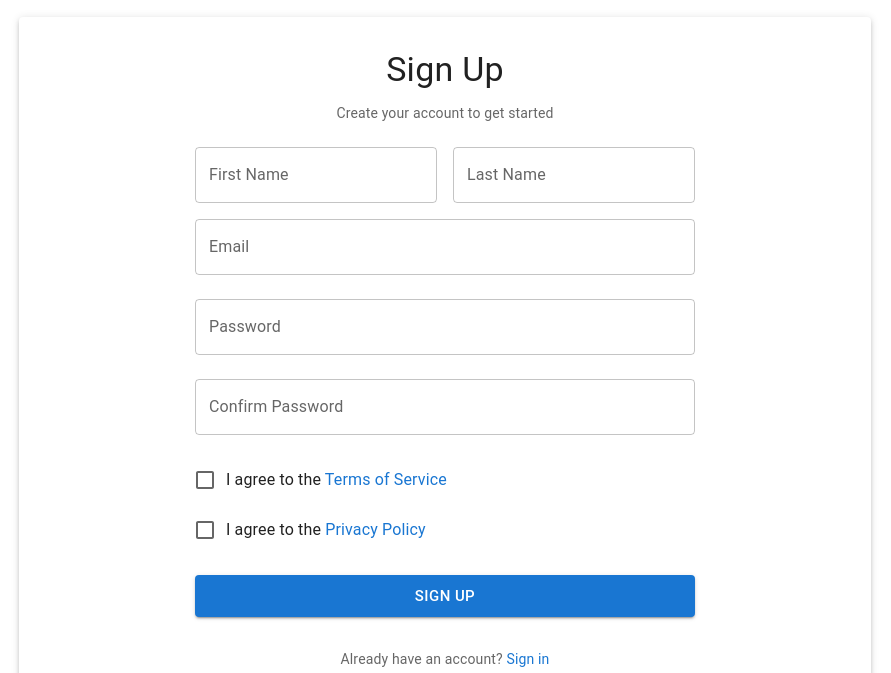
Test: RegisterPage - Integration Tests › Form Validation › should validate email format
The image size is (891, 673).
Type "invalid-email" into the field labelled "Email".
click(445, 247); type("invalid-email")  # box [195,219,695,275]
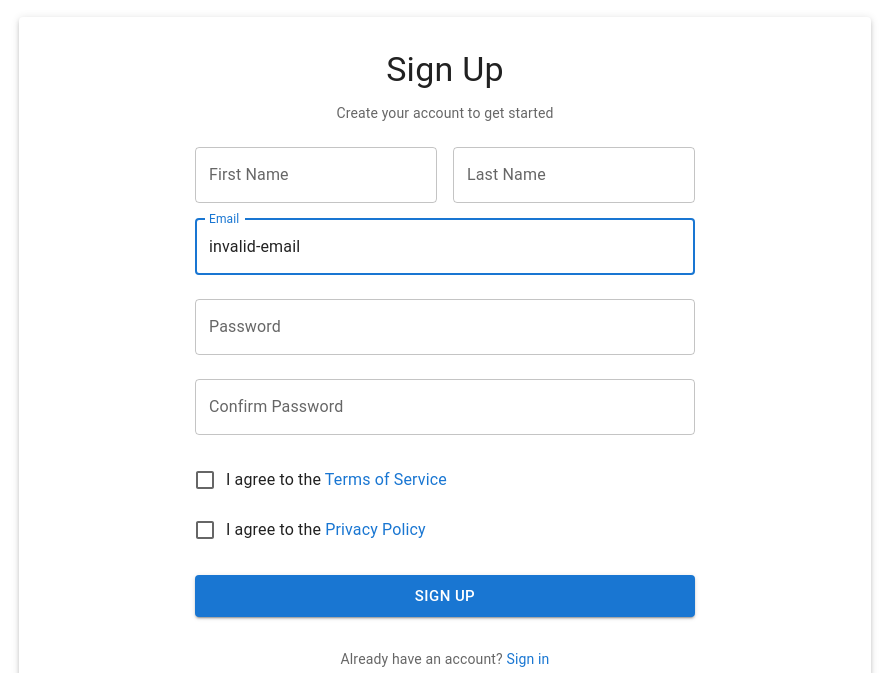
Click the button "Sign Up".
click(445, 596)  # box [195,575,695,617]
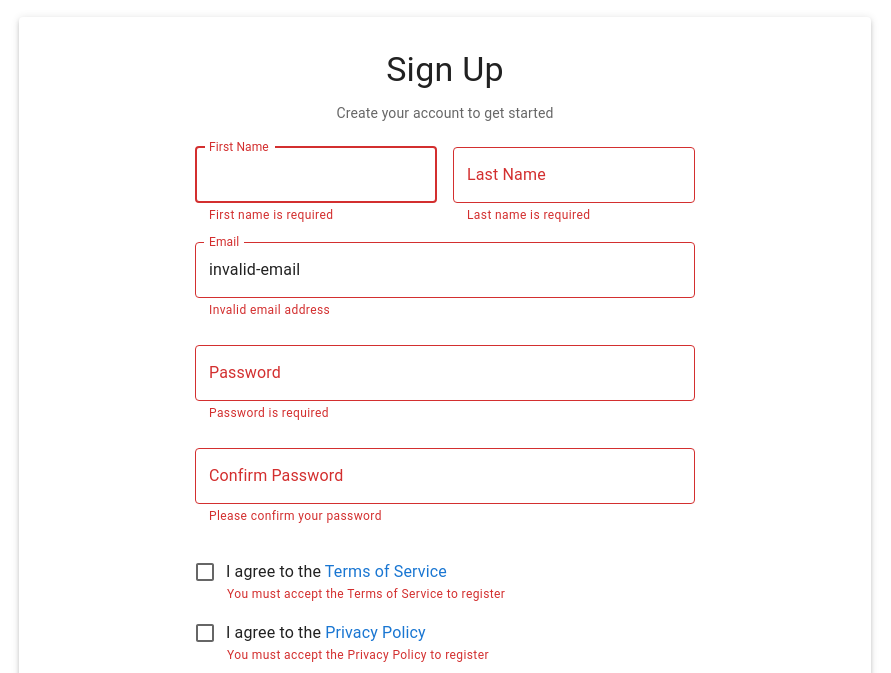
Now the text "Invalid email address" is shown, box [209,303,330,317]
